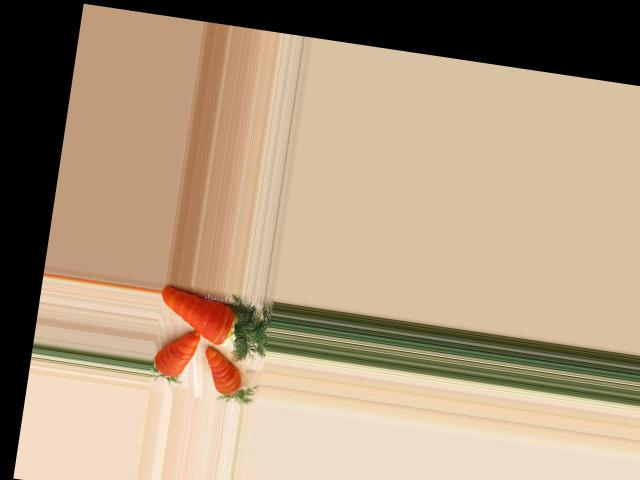carrot: (155, 280, 245, 353)
